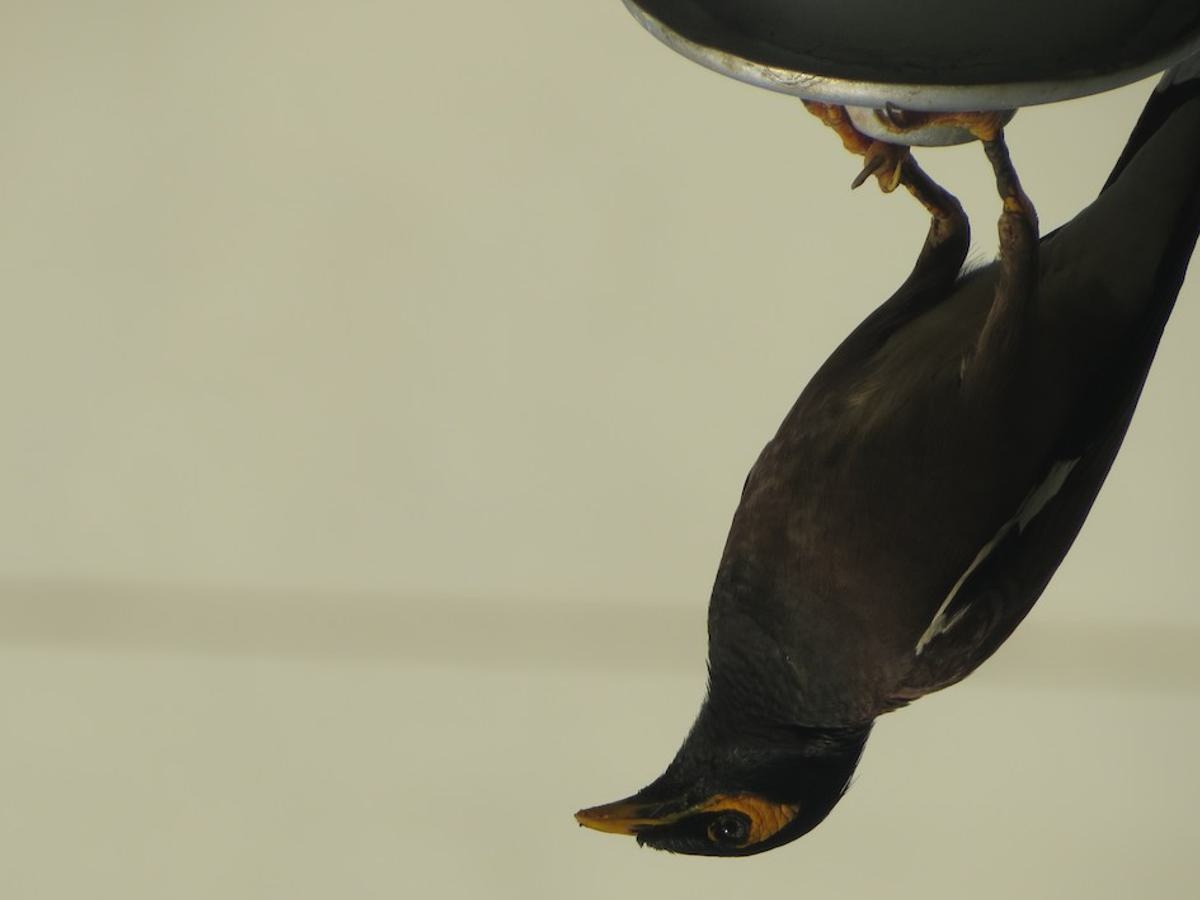myna: (563, 118, 1148, 874)
